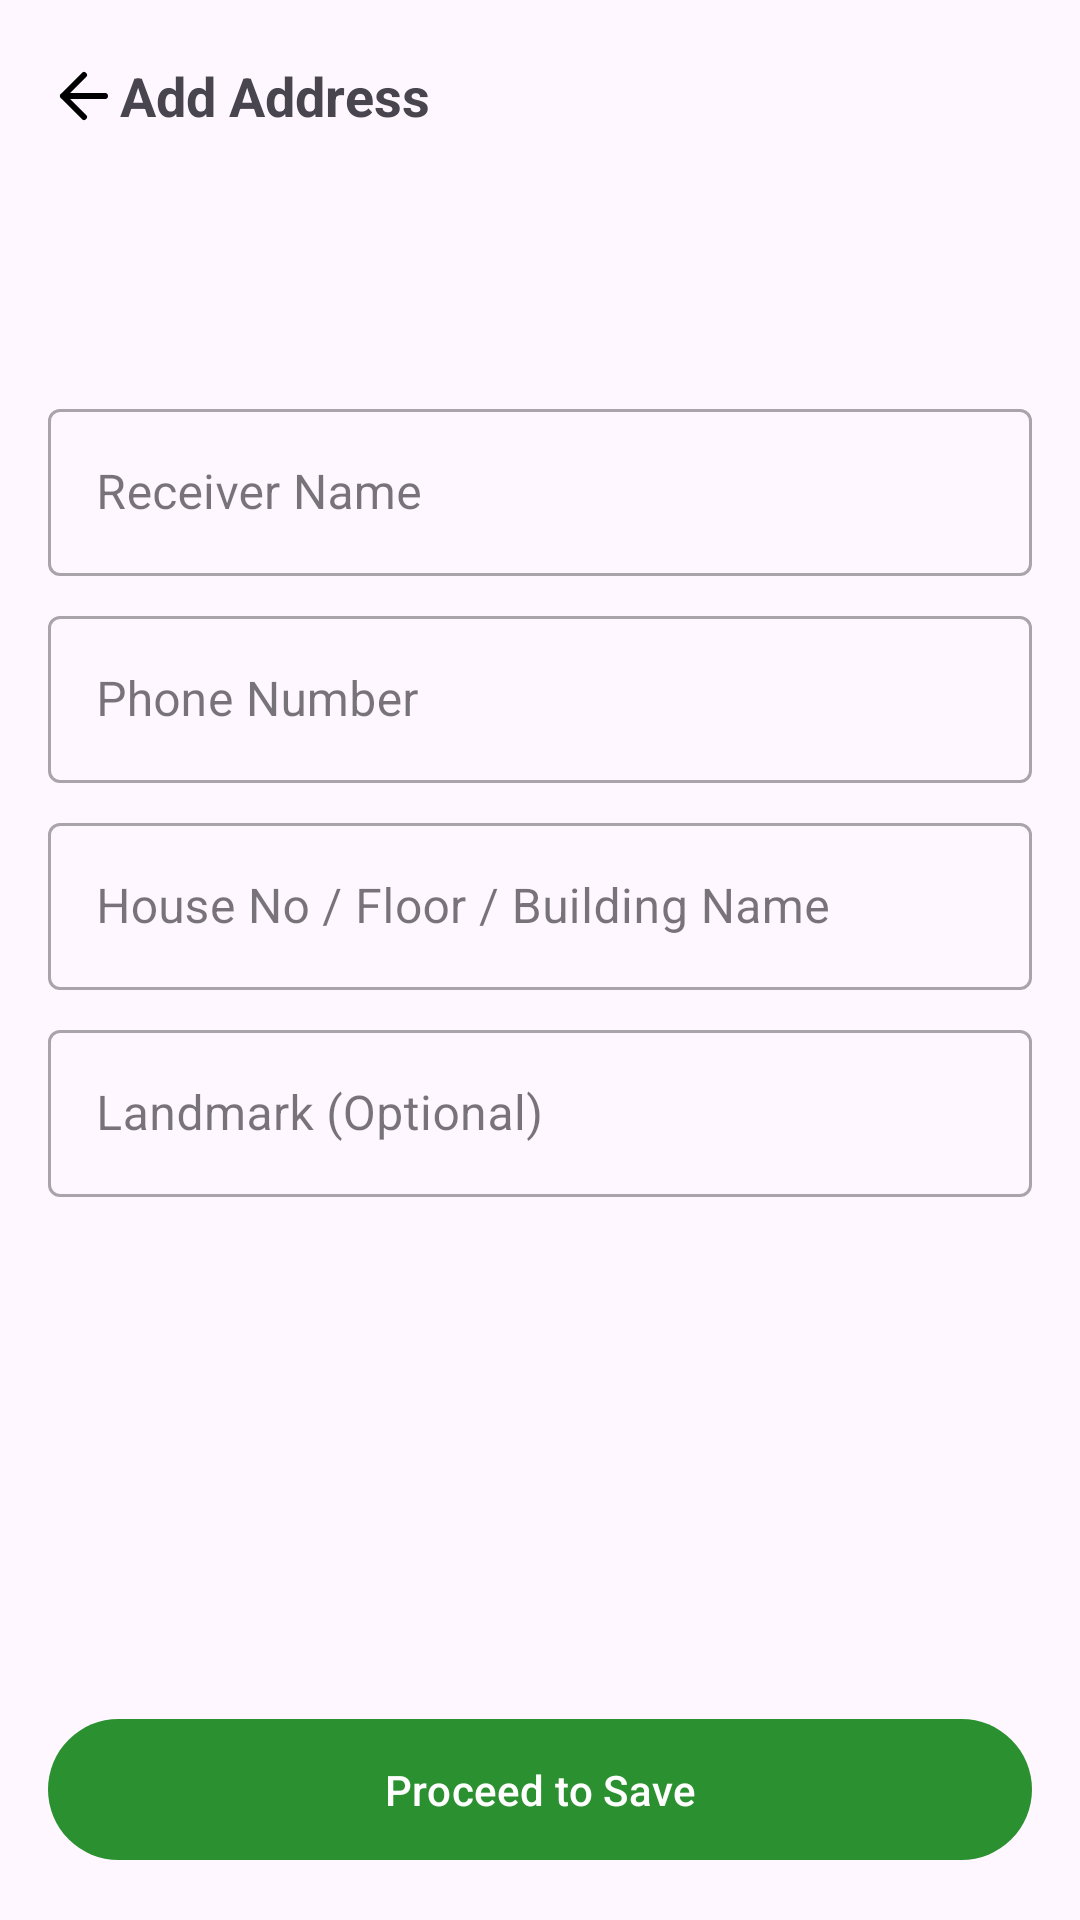

Icon click points for this 1080px×1920px phone screenshot, format point (x, y):
back: point (84, 96)
